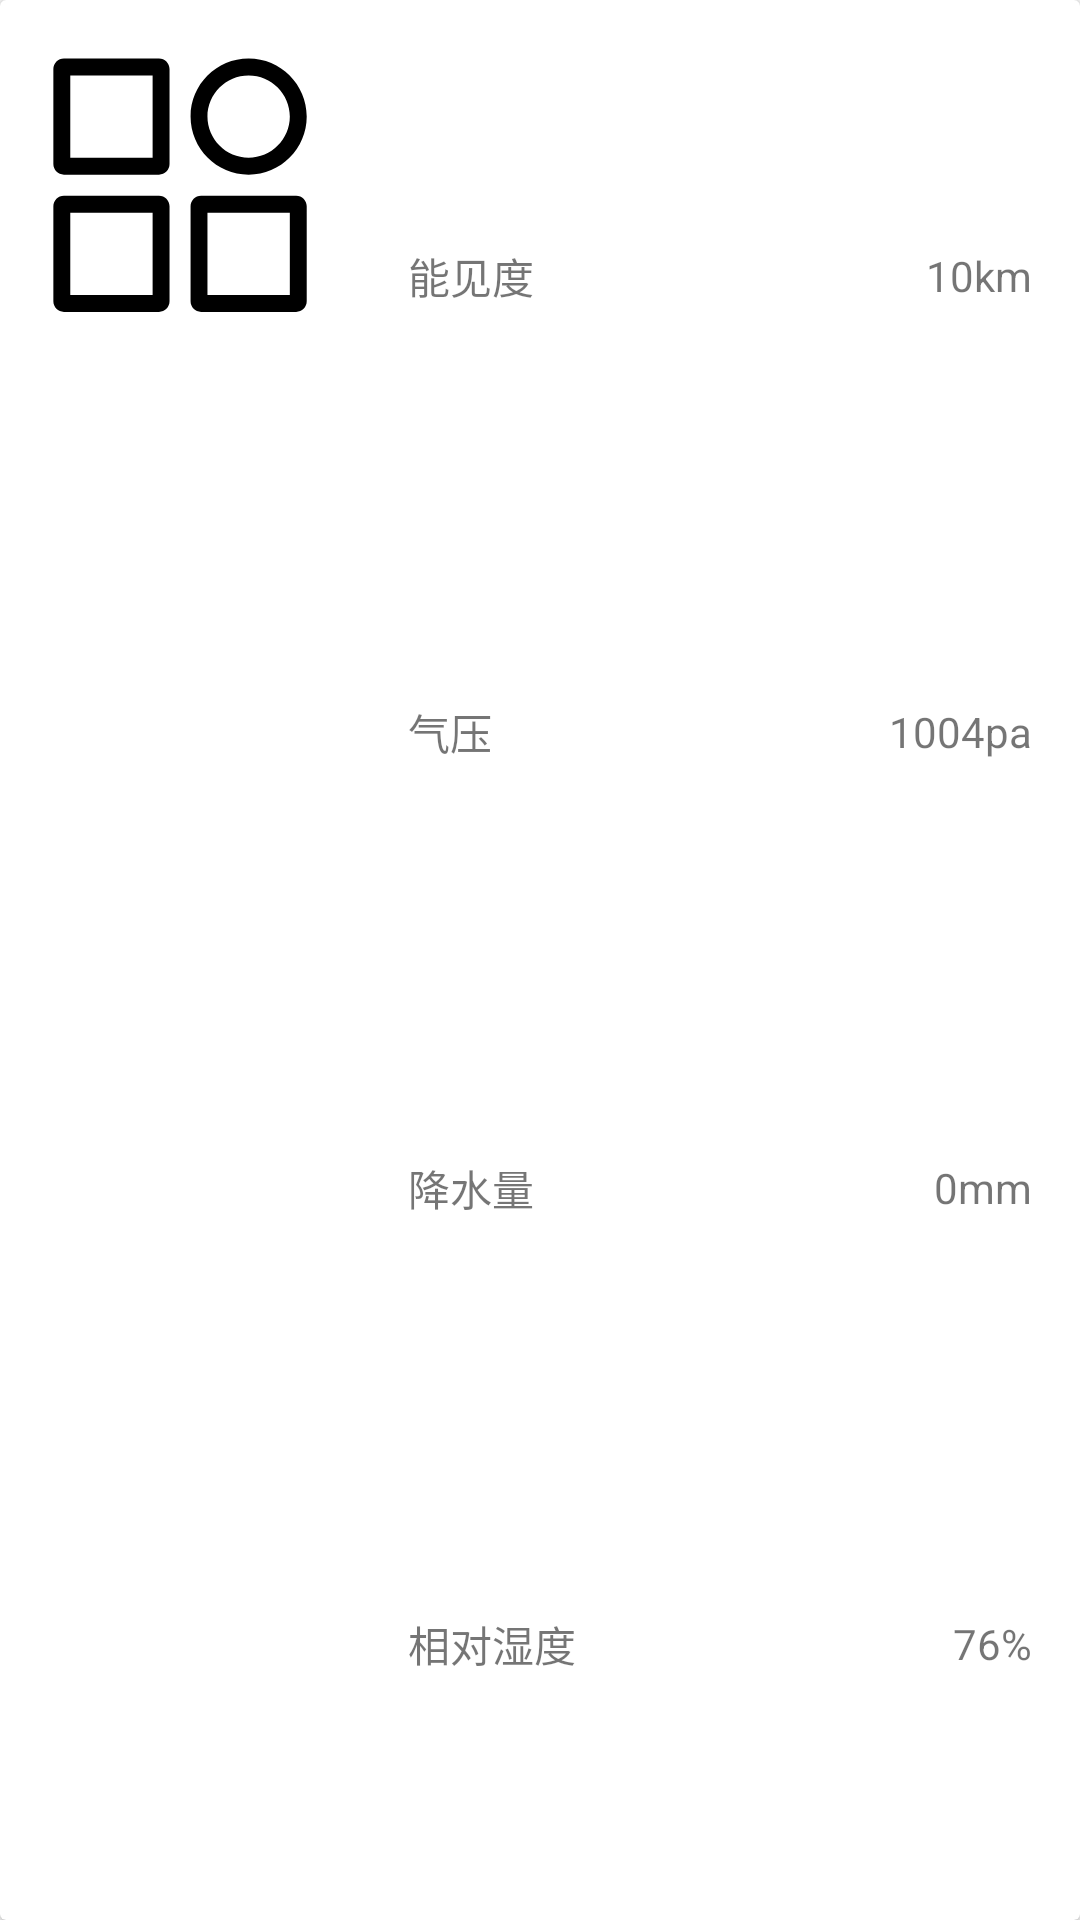

Point at icon controls on the screen. Image size 1080 x 1920, points as (x=x, y=y).
part other: (x=153, y=156)
